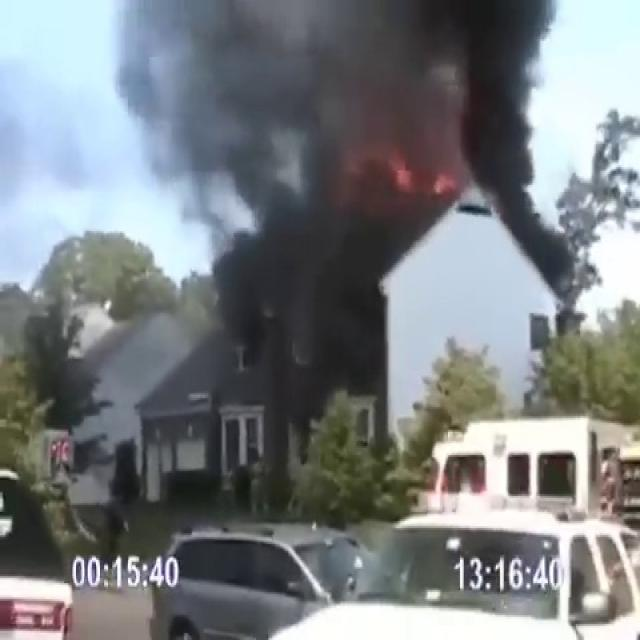Smoke: (120, 0, 578, 303)
